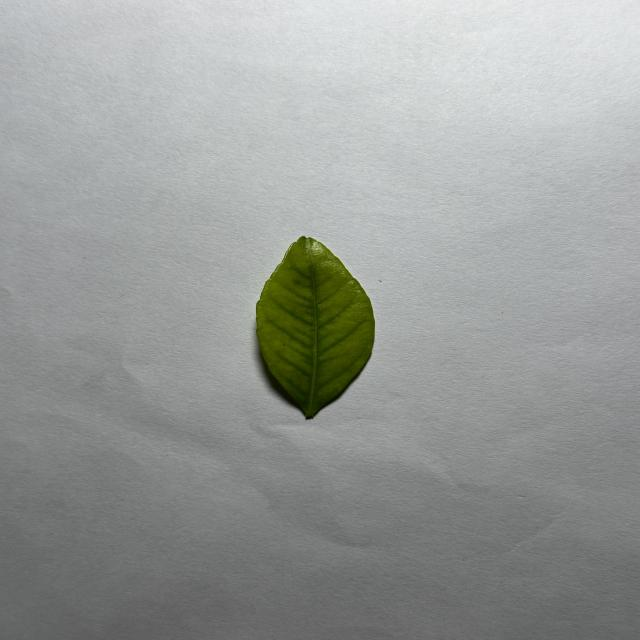greening: (257, 237, 375, 417)
